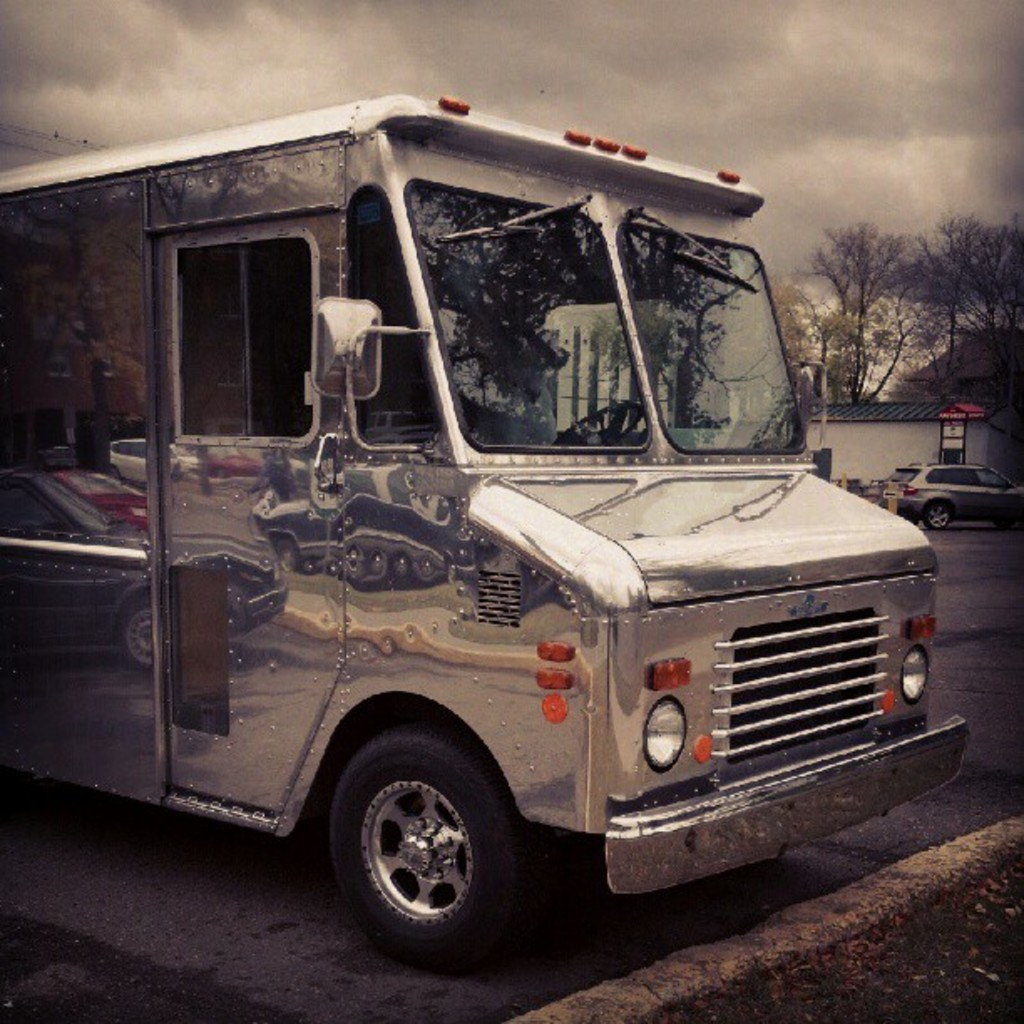Tree: (772, 169, 1024, 405)
